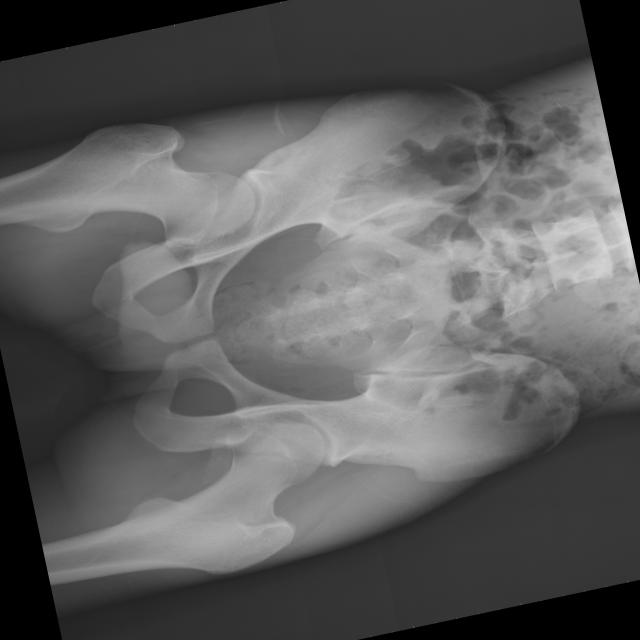normal-left: (41, 420, 325, 585)
normal-right: (0, 124, 255, 245)
